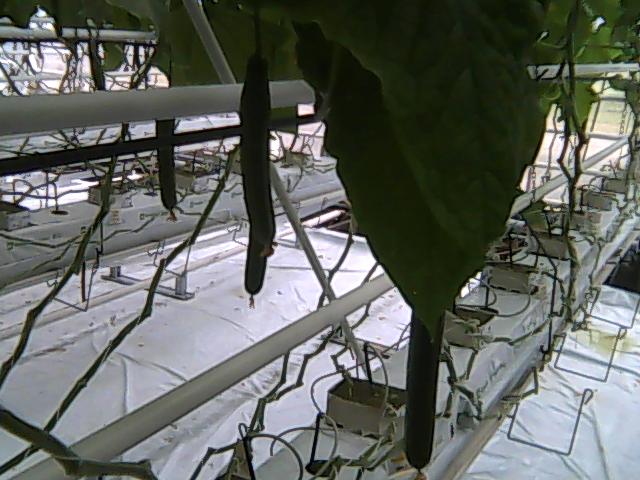concombre: (235, 41, 279, 261), (403, 293, 447, 480)
